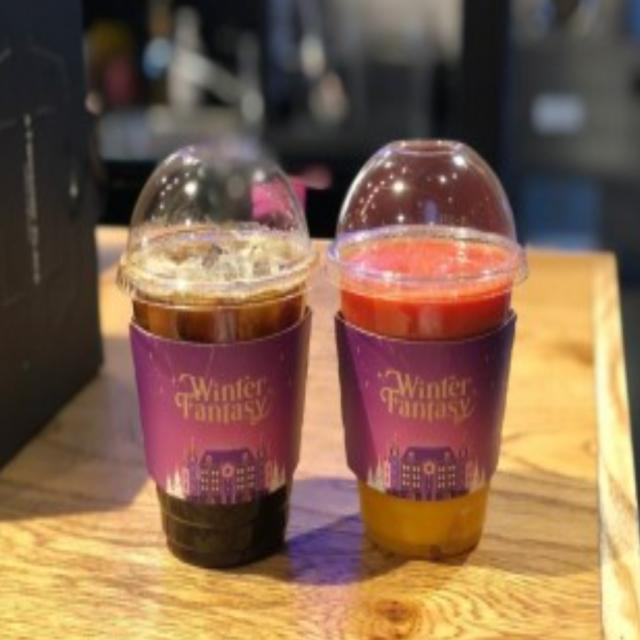bottle: (118, 241, 311, 566), (335, 248, 518, 557)
